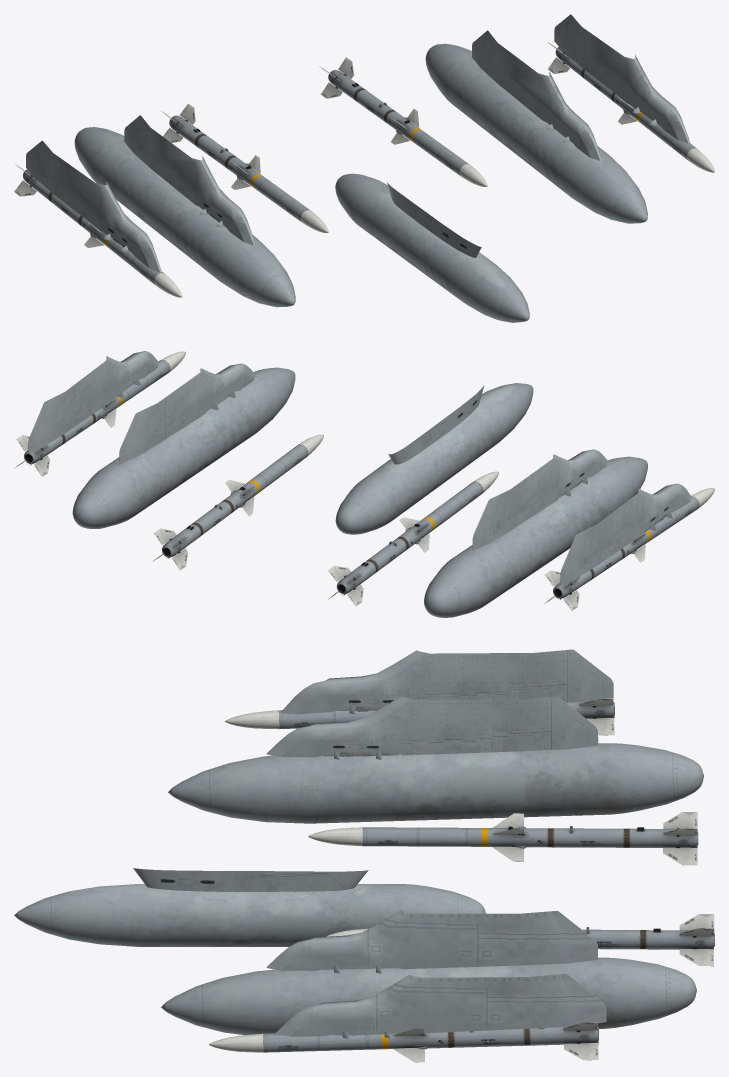
Rendered from stores.glb.
3 renders of one model, top to bottom at view 1: azimuth 30°, elevation 25°; view 2: azimuth 150°, elevation 25°; view 3: azimuth 270°, elevation 25°, orthographic. The views are drawn at different scales.
Parts seen in each view (by area): view 1: Object_173, Object_148, Object_169; view 2: Object_173, Object_148, Object_169; view 3: Object_173, Object_148, Object_169.
Part boxes in pixels (bbox=[...]): Object_173: bbox=[74, 43, 647, 322]; Object_148: bbox=[26, 14, 689, 272]; Object_169: bbox=[14, 42, 714, 297]; Object_173: bbox=[72, 367, 647, 617]; Object_148: bbox=[28, 351, 691, 585]; Object_169: bbox=[15, 351, 714, 610]; Object_173: bbox=[14, 743, 703, 1035]; Object_148: bbox=[133, 649, 613, 1038]; Object_169: bbox=[209, 682, 714, 1062].
Size of the model in its own units: 7.62 by 1.46 by 6.59.
Materials: 3 (3 with a texture image).
